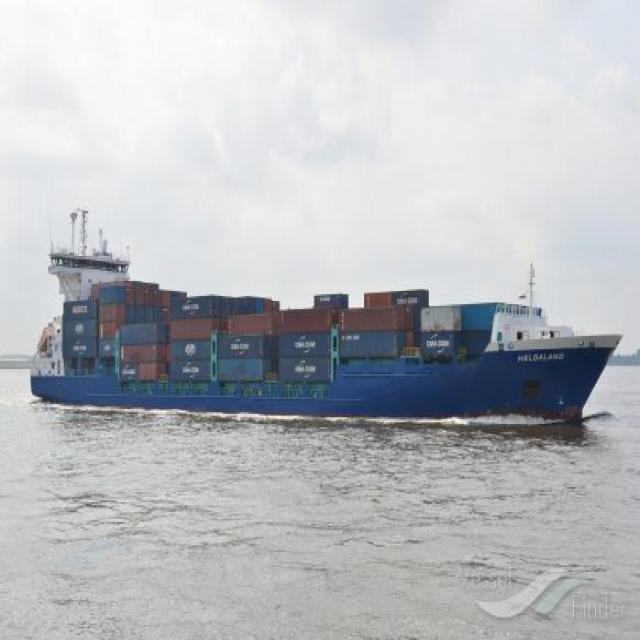Container Ship: (30, 212, 624, 422)
